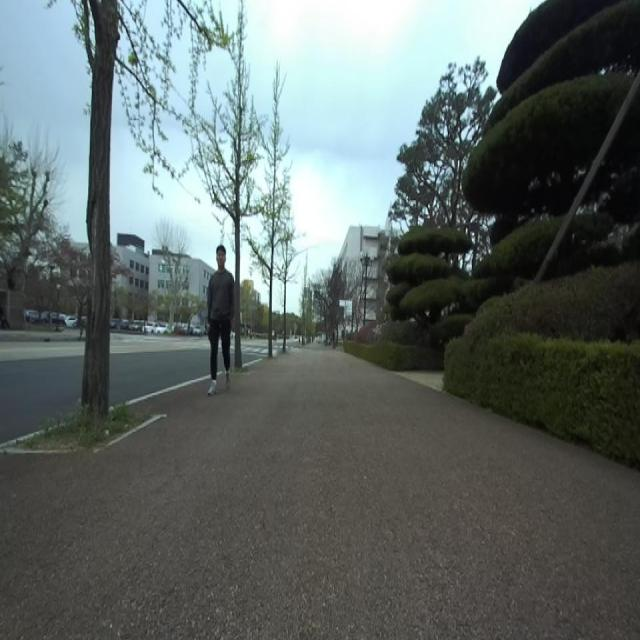sidewalk: (0, 346, 640, 639), (125, 375, 210, 405), (246, 358, 262, 367)
